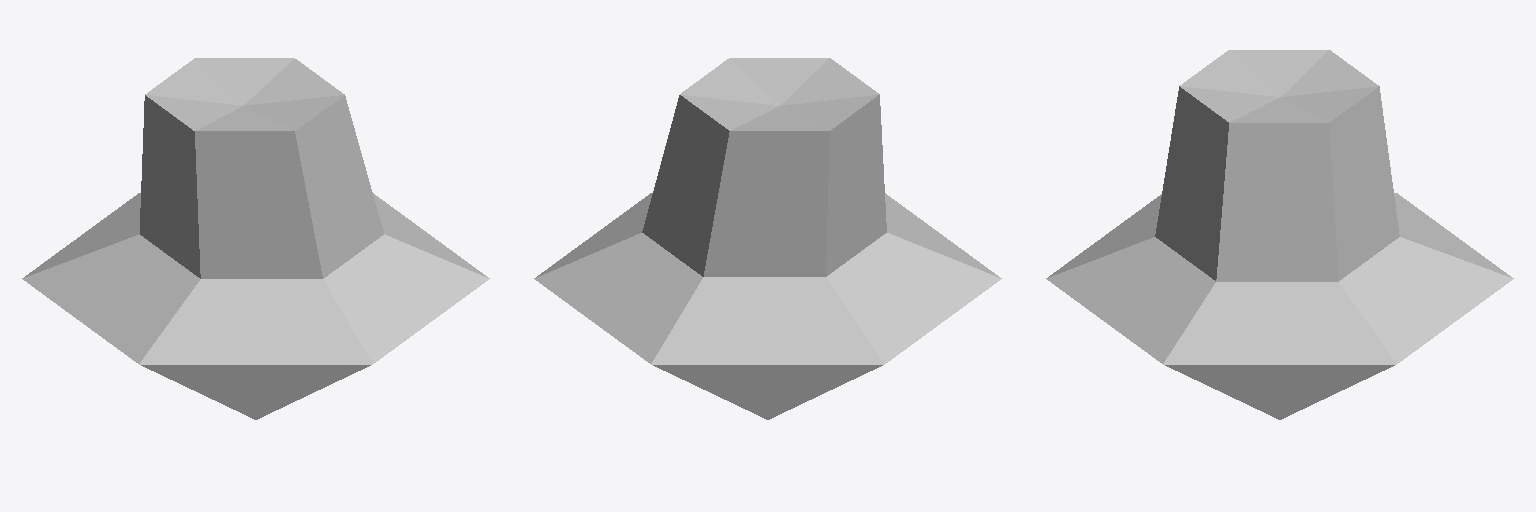
The model's file is stump.obj.
3 views of the same model, side by side, from view 1: azimuth 30°, elevation 25°; view 2: azimuth 150°, elevation 25°; view 3: azimuth 270°, elevation 25° (orthographic).
Visible parts, largest first — view 1: stump; view 2: stump; view 3: stump.
Part boxes in pixels (x1,y1,x2,y2): stump: (22,58,489,419); stump: (534,58,1001,419); stump: (1046,50,1513,419).
Bounding box in the file's own units: 2.06 × 1.84 × 2.38.